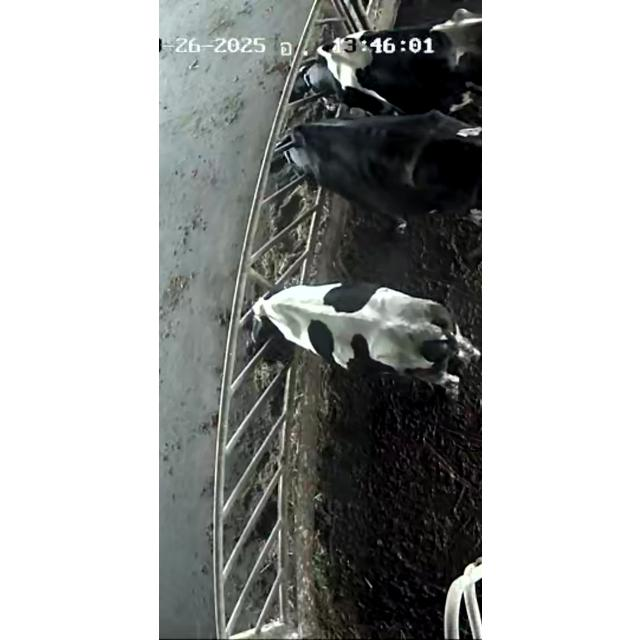eat: (236, 23, 407, 106), (220, 114, 398, 190), (196, 274, 354, 354)
